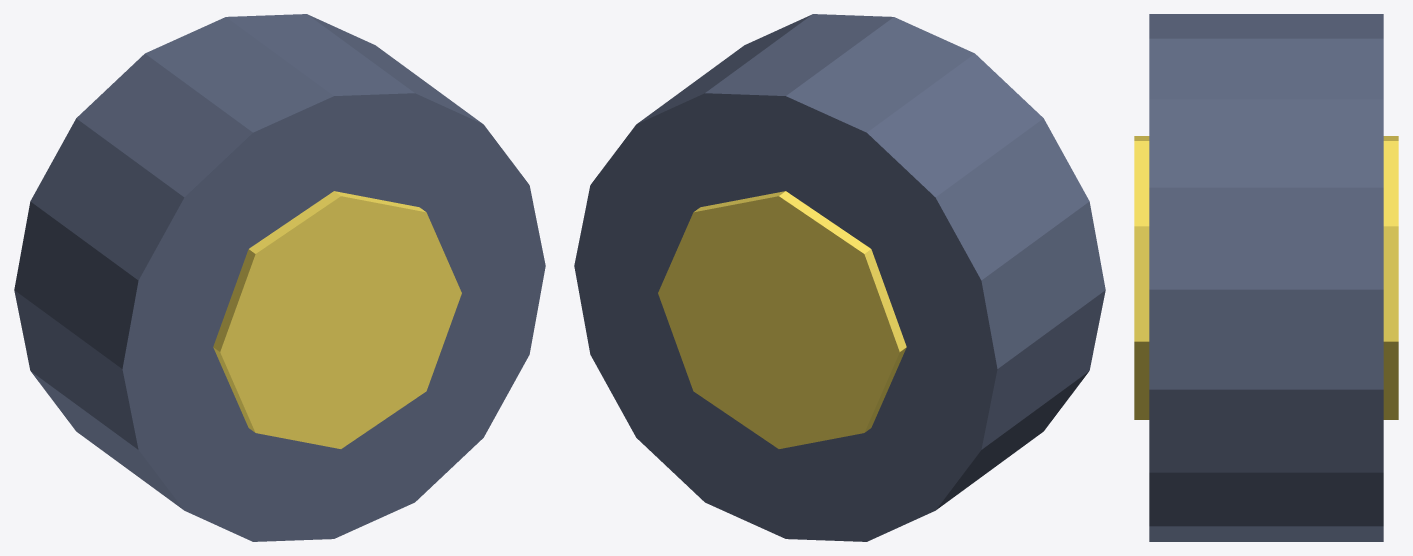
The model's file is wheel_slick.glb.
The picture shows the model from 3 angles, left to right: view 1: azimuth 30°, elevation 25°; view 2: azimuth 150°, elevation 25°; view 3: azimuth 270°, elevation 25°; orthographic projection. The views are drawn at different scales.
Bounding box in the file's own units: 0.07 × 0.07 × 0.035.
